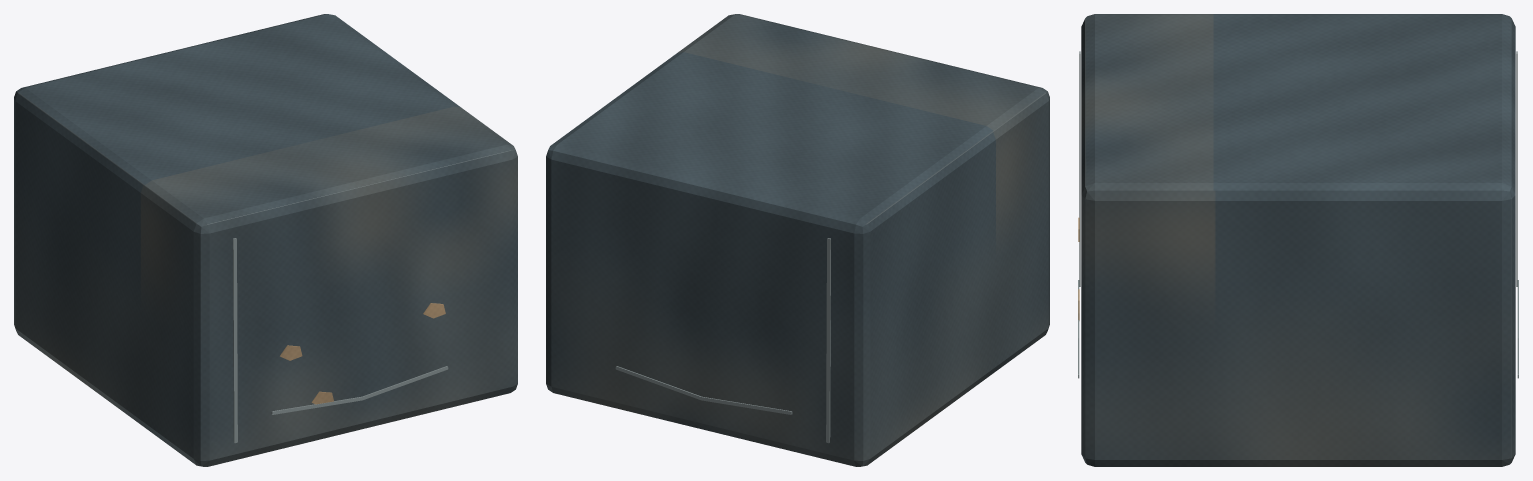
File: 05_Jambe_RightLowerLeg.fbx
The picture shows the model from 3 angles, left to right: view 1: azimuth 30°, elevation 25°; view 2: azimuth 150°, elevation 25°; view 3: azimuth 270°, elevation 25°; orthographic projection. The views are drawn at different scales.
Visible parts, largest first — view 1: 05_Jambe_RightLowerLeg; view 2: 05_Jambe_RightLowerLeg; view 3: 05_Jambe_RightLowerLeg.
Boxes of the visible parts, x1,y1,x2,y2 form: 05_Jambe_RightLowerLeg: [14, 14, 517, 466]; 05_Jambe_RightLowerLeg: [546, 14, 1049, 466]; 05_Jambe_RightLowerLeg: [1078, 14, 1518, 466].
Size of the model in its own units: 1.01 by 0.745 by 1.05.
1 material, 1 textured.
